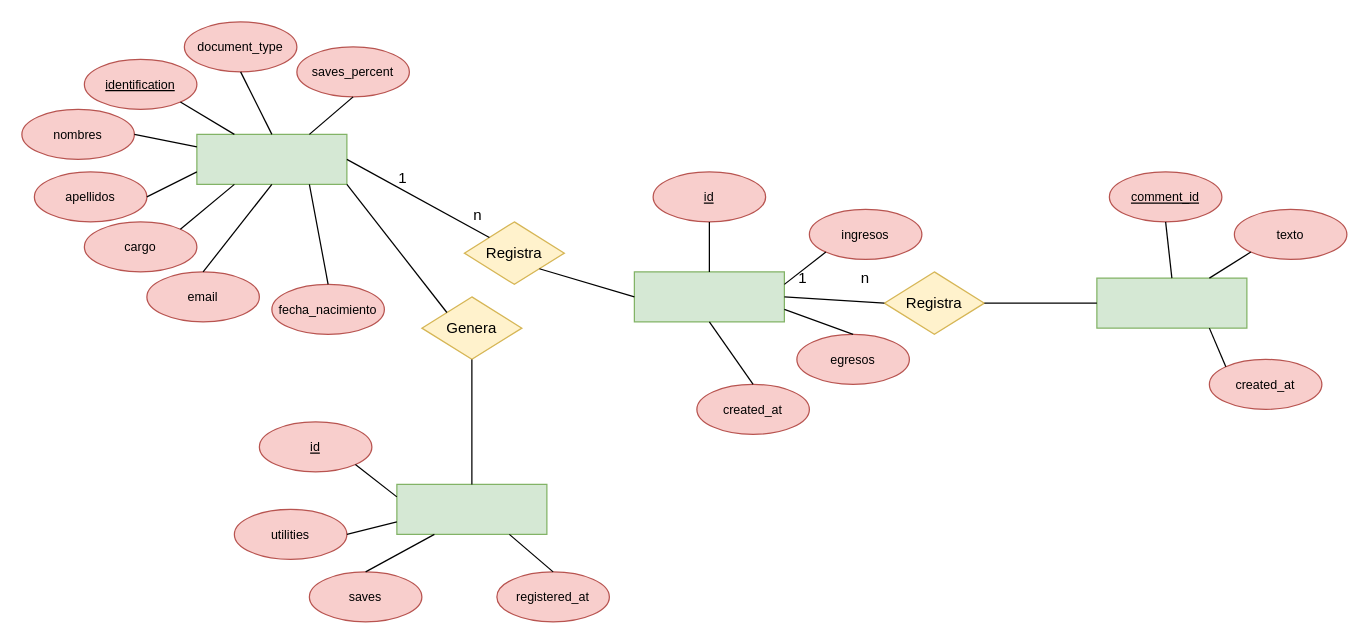
The diagram is 1369 pixels wide and 644 high, and some of its shapes have lost their labels. Each missing label, with the centre of its shape:
Cambios Mensuales: the point at 708,296
Comentarios: the point at 1171,302
estadísticas: the point at 471,508
Personas: the point at 271,158
